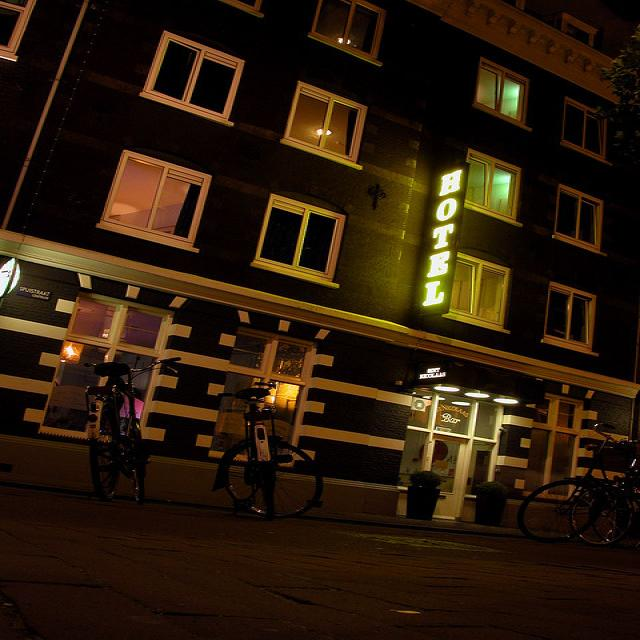Bicycle: (50, 343, 185, 519), (207, 345, 325, 541)
